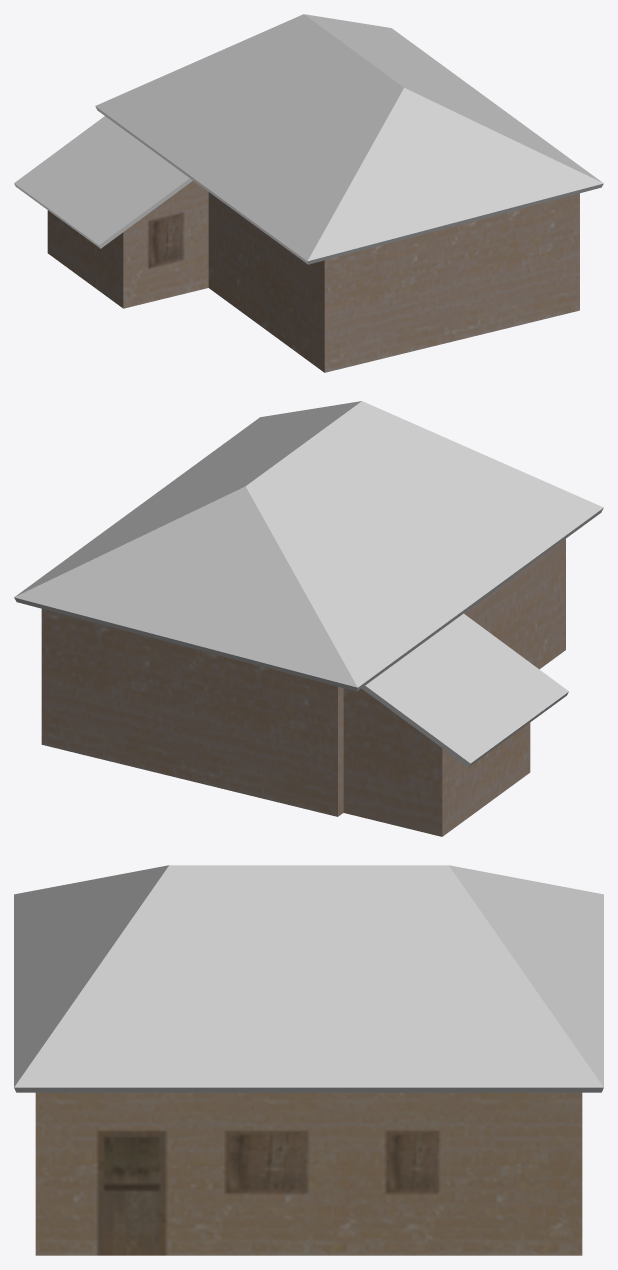
Rendered from 07_casaLOD1.fbx.
3 views of the same model, one above another, from view 1: azimuth 30°, elevation 25°; view 2: azimuth 150°, elevation 25°; view 3: azimuth 270°, elevation 25° (orthographic). The views are drawn at different scales.
Parts seen in each view (by area): view 1: telhado_LOD1, 07_casa_LOD1; view 2: telhado_LOD1, 07_casa_LOD1; view 3: telhado_LOD1, 07_casa_LOD1.
Boxes of the visible parts, x1,y1,x2,y2 form: telhado_LOD1: (14, 14, 603, 264); 07_casa_LOD1: (47, 180, 579, 372); telhado_LOD1: (14, 401, 603, 767); 07_casa_LOD1: (41, 539, 565, 836); telhado_LOD1: (14, 865, 603, 1092); 07_casa_LOD1: (35, 1092, 582, 1255).
Bounding box in the file's own units: 906 × 491 × 864.
